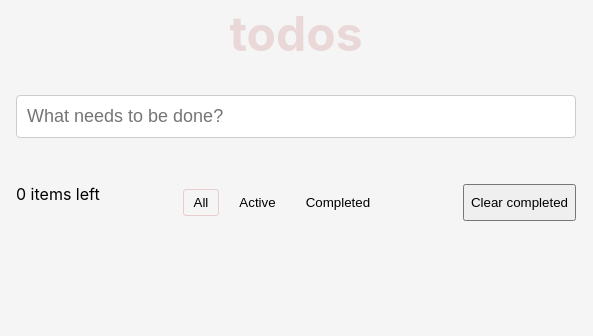
Test: filters tasks
This screenshot has width=593, height=336.
In the field with placeholder "What needs to be done?": (296,117) [16,95,576,138], type "Task 1"
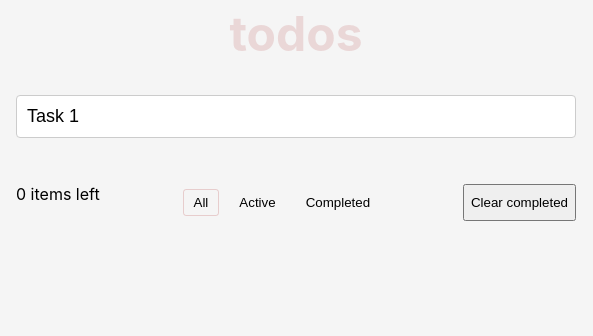
Press Enter in the field with placeholder "What needs to be done?", box [16,95,576,138]
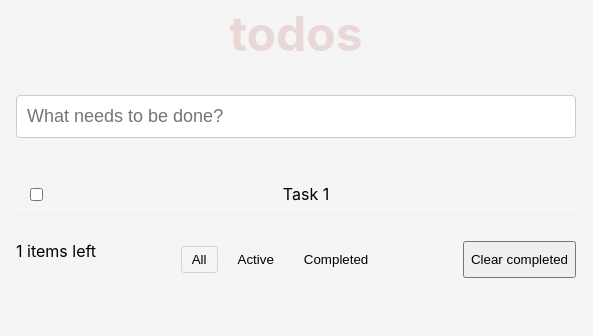
In the field with placeholder "What needs to be done?": (296,117) [16,95,576,138], type "Task 2"
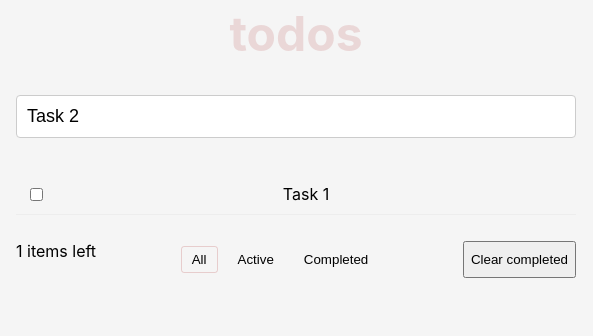
Press Enter in the field with placeholder "What needs to be done?", box [16,95,576,138]
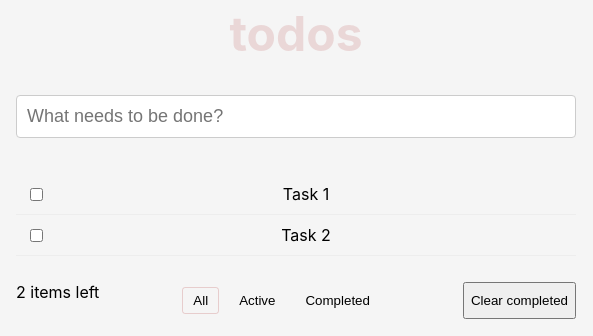
Click the checkbox in the row of "Task 1": (36,194) [30,188,43,201]
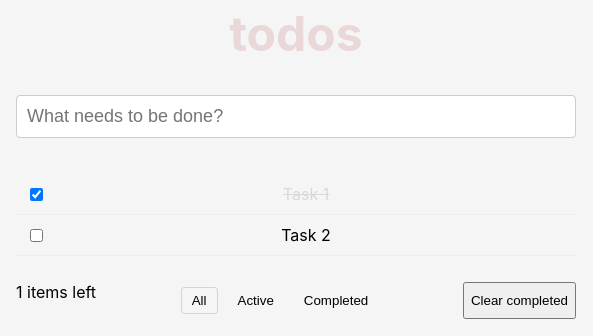
Click the button "Active": (256,301) [228,287,284,314]
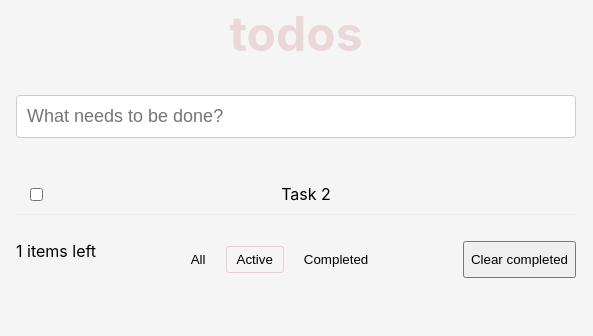
Result: the text "Task 2" is shown at [281,184,331,204]
Result: the text "Task 1" is gone
